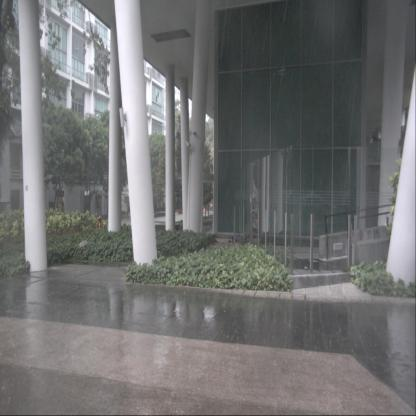vehicle-car: (288, 194, 338, 225)
